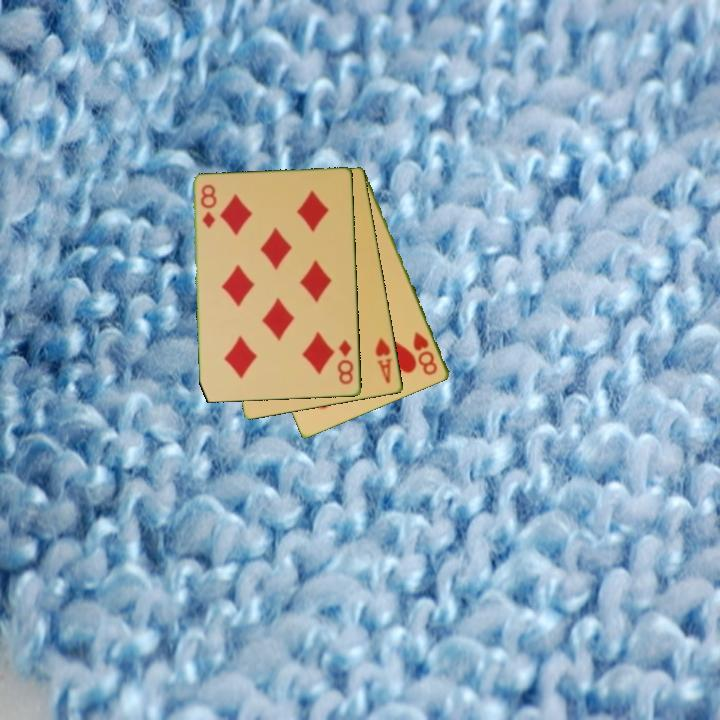8d: (334, 336, 356, 387), (197, 181, 218, 231)
8h: (410, 328, 441, 378)
Ah: (372, 335, 395, 387)
